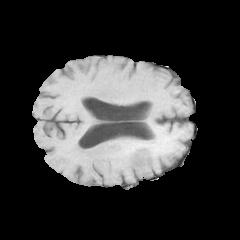glioma: (63, 126, 171, 178)
